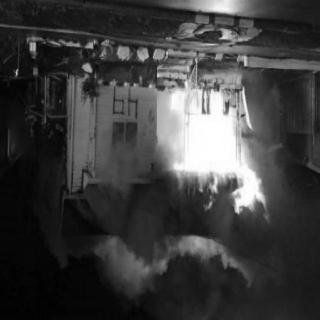Fire: (167, 88, 277, 224)
Smoke: (78, 180, 230, 252)
